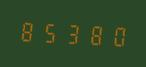eight: (18, 17, 39, 45), (84, 20, 105, 48)
five: (40, 18, 61, 46)
three: (62, 19, 83, 47)
zero: (106, 21, 127, 49)
